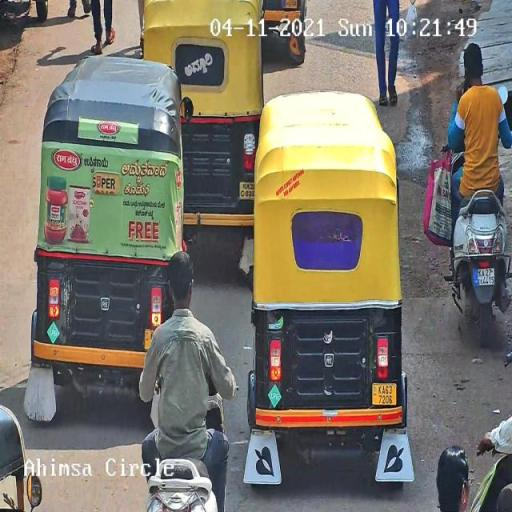using mobile: (460, 70, 471, 96)
